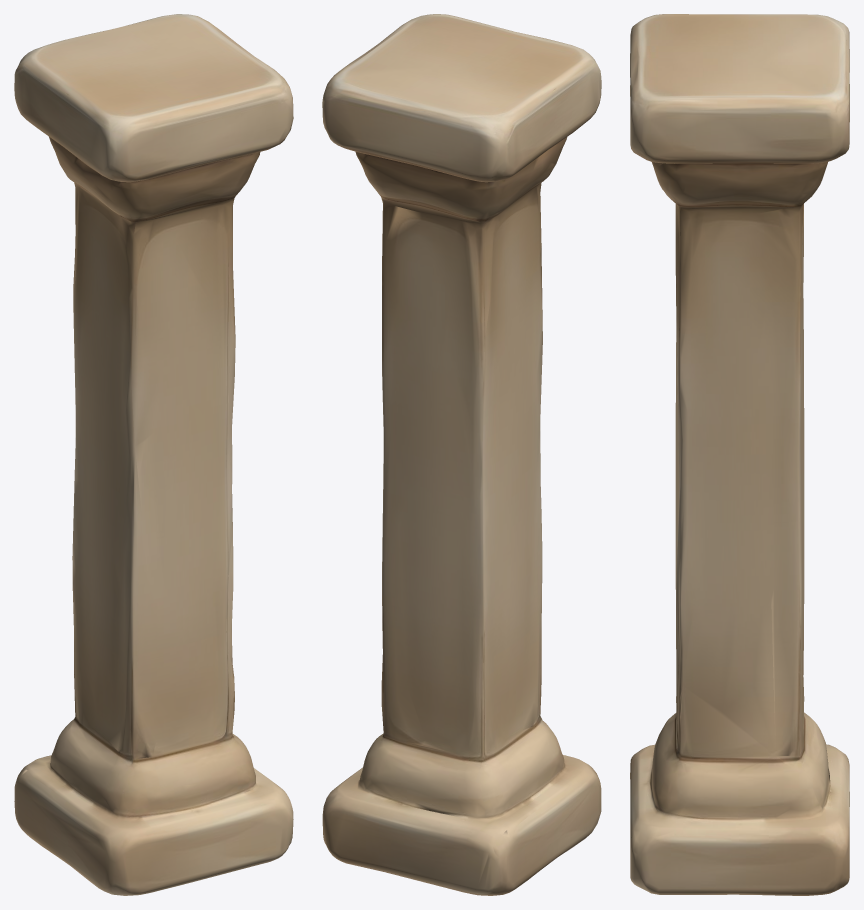
3 views of the same model, side by side, from view 1: azimuth 30°, elevation 25°; view 2: azimuth 150°, elevation 25°; view 3: azimuth 270°, elevation 25° (orthographic). The views are drawn at different scales.
Parts seen in each view (by area): view 1: node_0; view 2: node_0; view 3: node_0.
Part boxes in pixels (box(x1,y1,x2,y2)): node_0: box(14, 14, 293, 895); node_0: box(322, 14, 601, 895); node_0: box(630, 14, 849, 895).
Size of the model in its own units: 0.75 by 3 by 0.75.
1 material, 1 textured.
